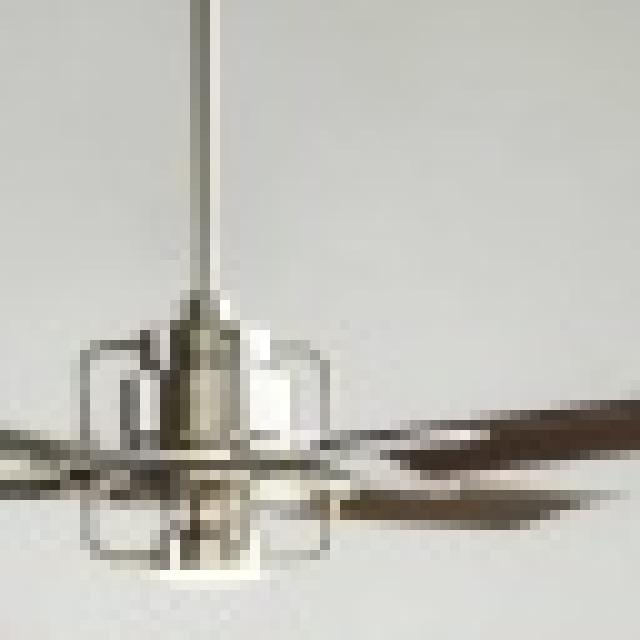Bulb: (30, 290, 640, 620)
